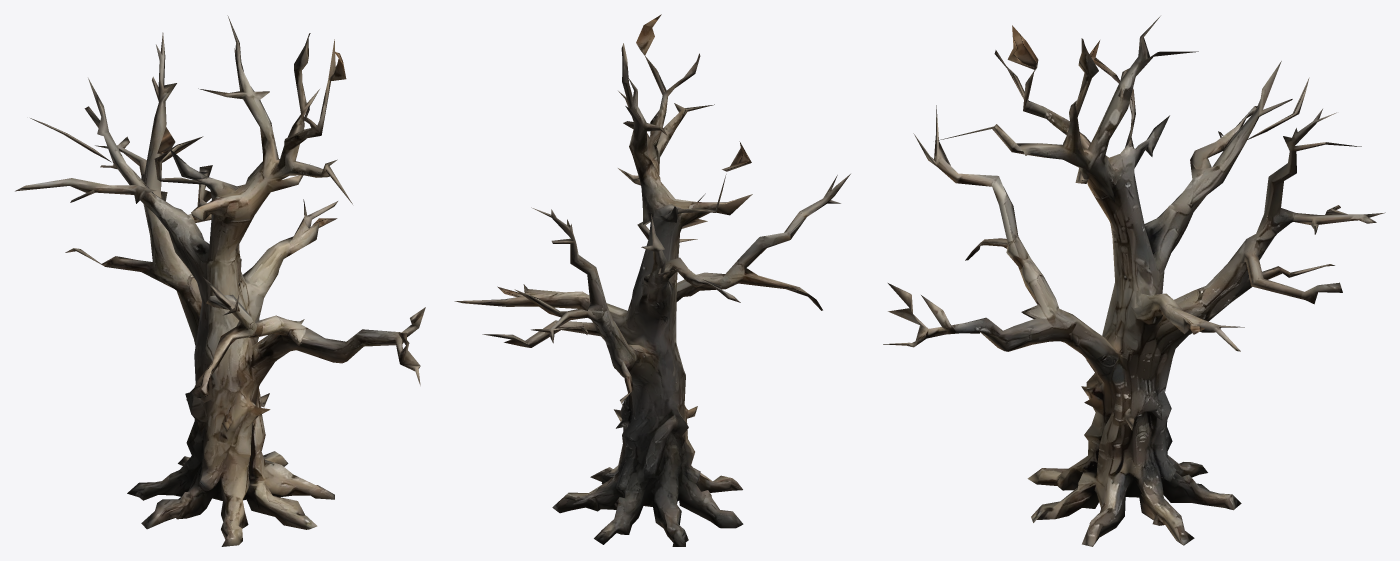
Rendered from e_deadtree.glb.
The picture shows the model from 3 angles, left to right: view 1: azimuth 30°, elevation 25°; view 2: azimuth 150°, elevation 25°; view 3: azimuth 270°, elevation 25°; orthographic projection. The views are drawn at different scales.
Visible parts, largest first — view 1: tripo_node_bf12929f-814e-4e58-9902-03f419c26a99; view 2: tripo_node_bf12929f-814e-4e58-9902-03f419c26a99; view 3: tripo_node_bf12929f-814e-4e58-9902-03f419c26a99.
Part boxes in pixels (x1,y1,x2,y2): tripo_node_bf12929f-814e-4e58-9902-03f419c26a99: [15, 15, 425, 546]; tripo_node_bf12929f-814e-4e58-9902-03f419c26a99: [454, 14, 850, 546]; tripo_node_bf12929f-814e-4e58-9902-03f419c26a99: [883, 16, 1385, 546].
Bounding box in the file's own units: 0.6885 × 1 × 0.9115.
Materials: 1 (1 with a texture image).
